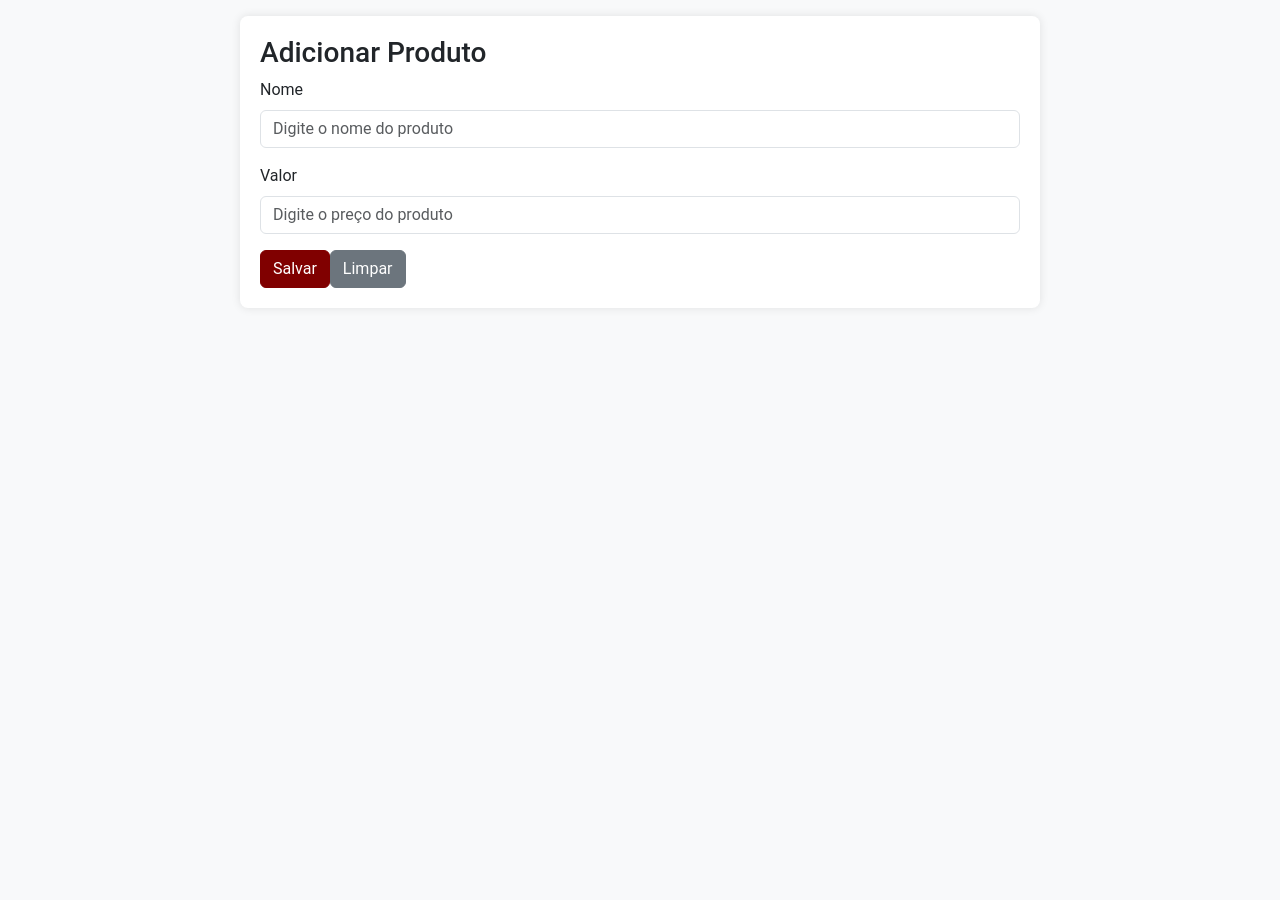
AddProduct Component › shows error modal on failed product addition
Type "Produto Teste" into the field labelled "Nome". click: point(640, 129)
box: [260, 110, 1020, 148]
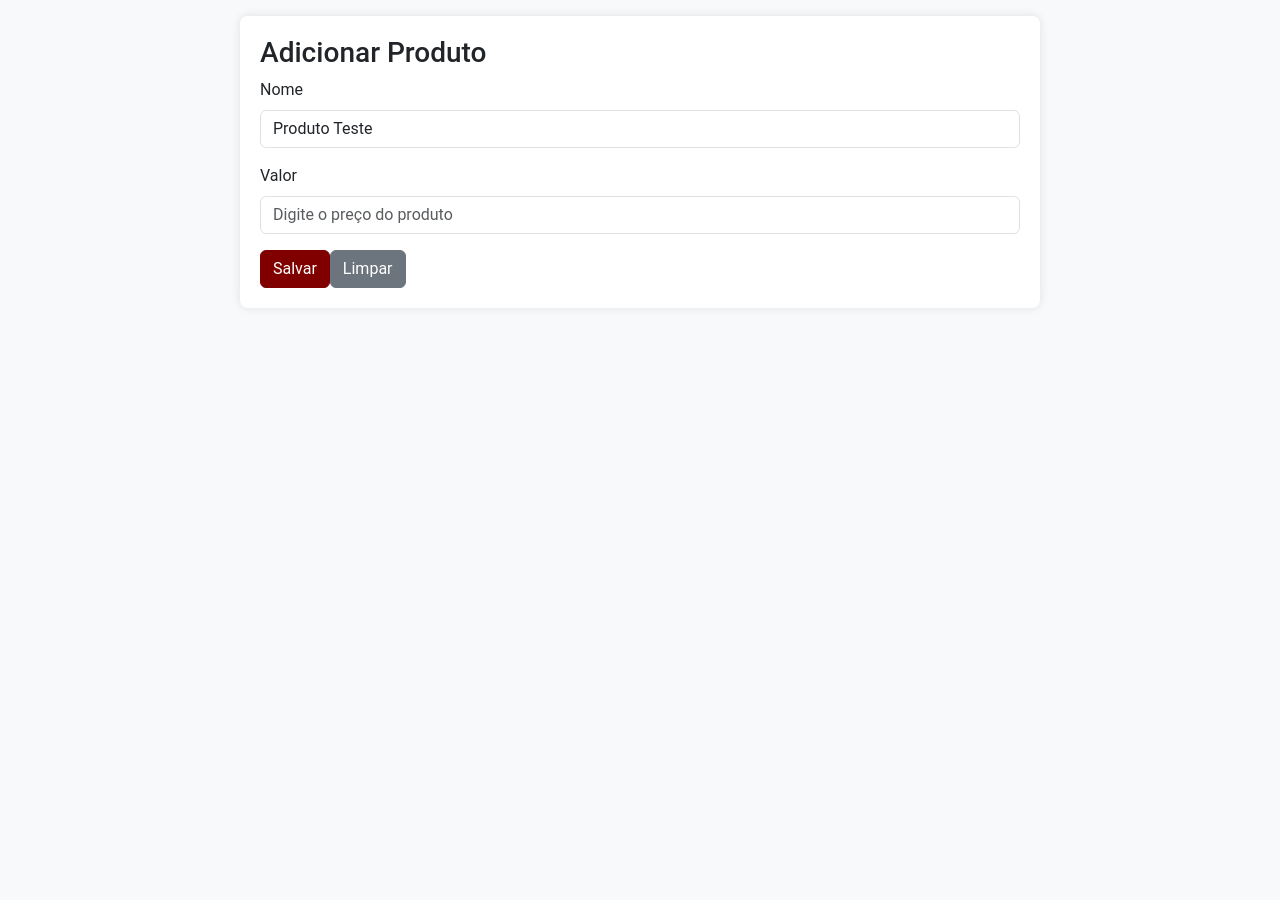
Type "100.00" into the number field labelled "Valor". click: point(640, 215)
box: [260, 196, 1020, 234]
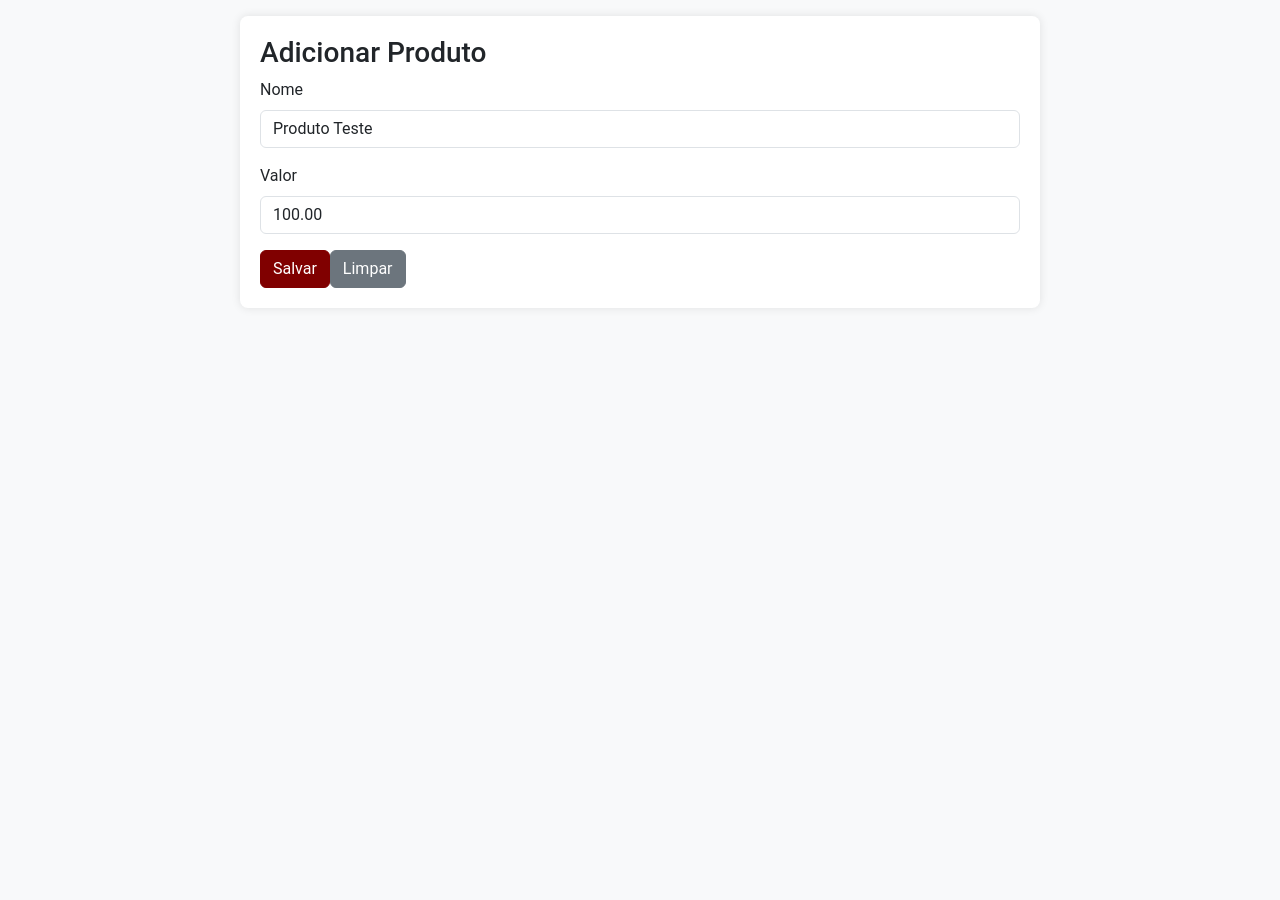
Click the button "Salvar". click: point(295, 269)
box: [260, 250, 330, 288]
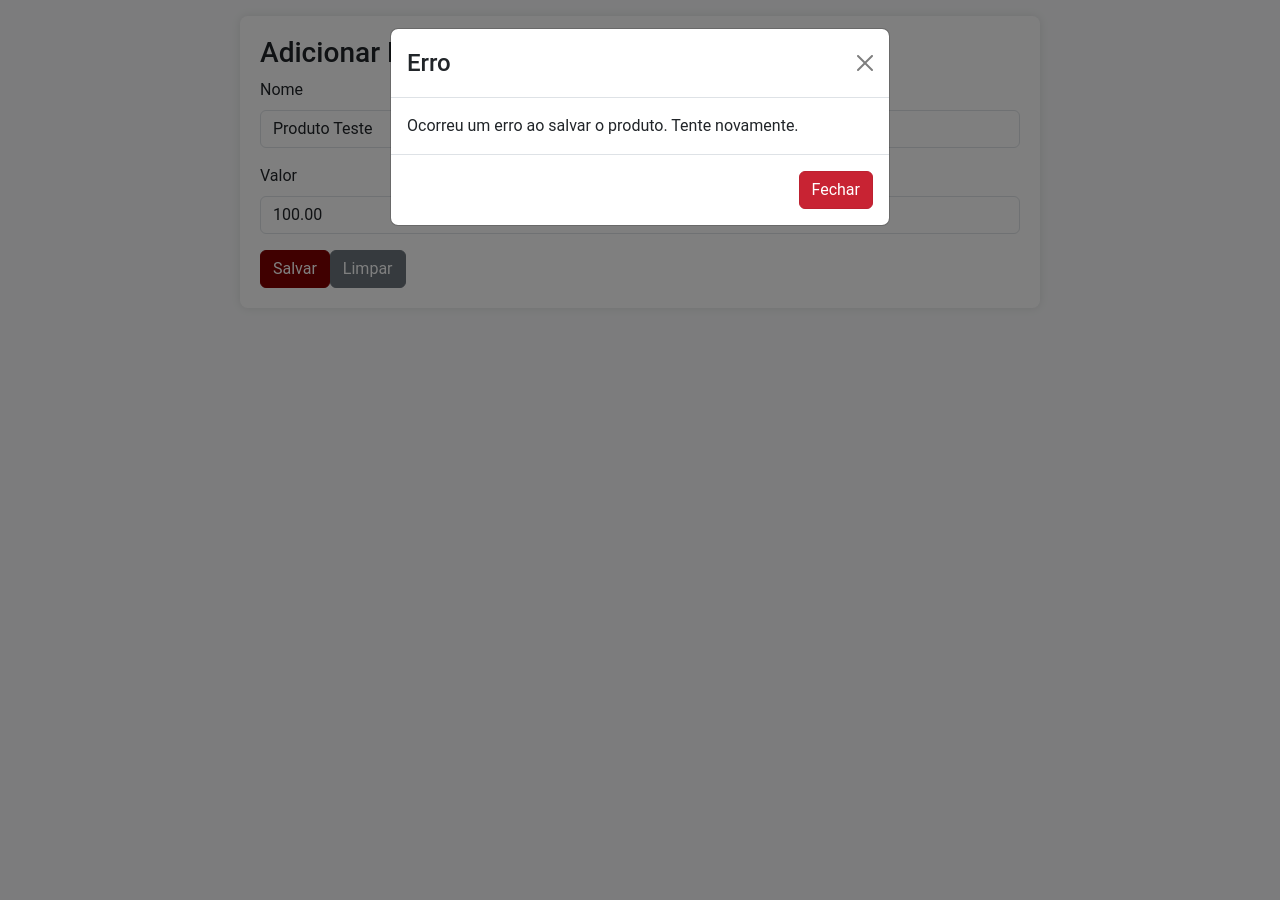
Check: the text "Ocorreu um erro ao salvar o produto. Tente novamente." is shown, box [407, 116, 799, 135]
